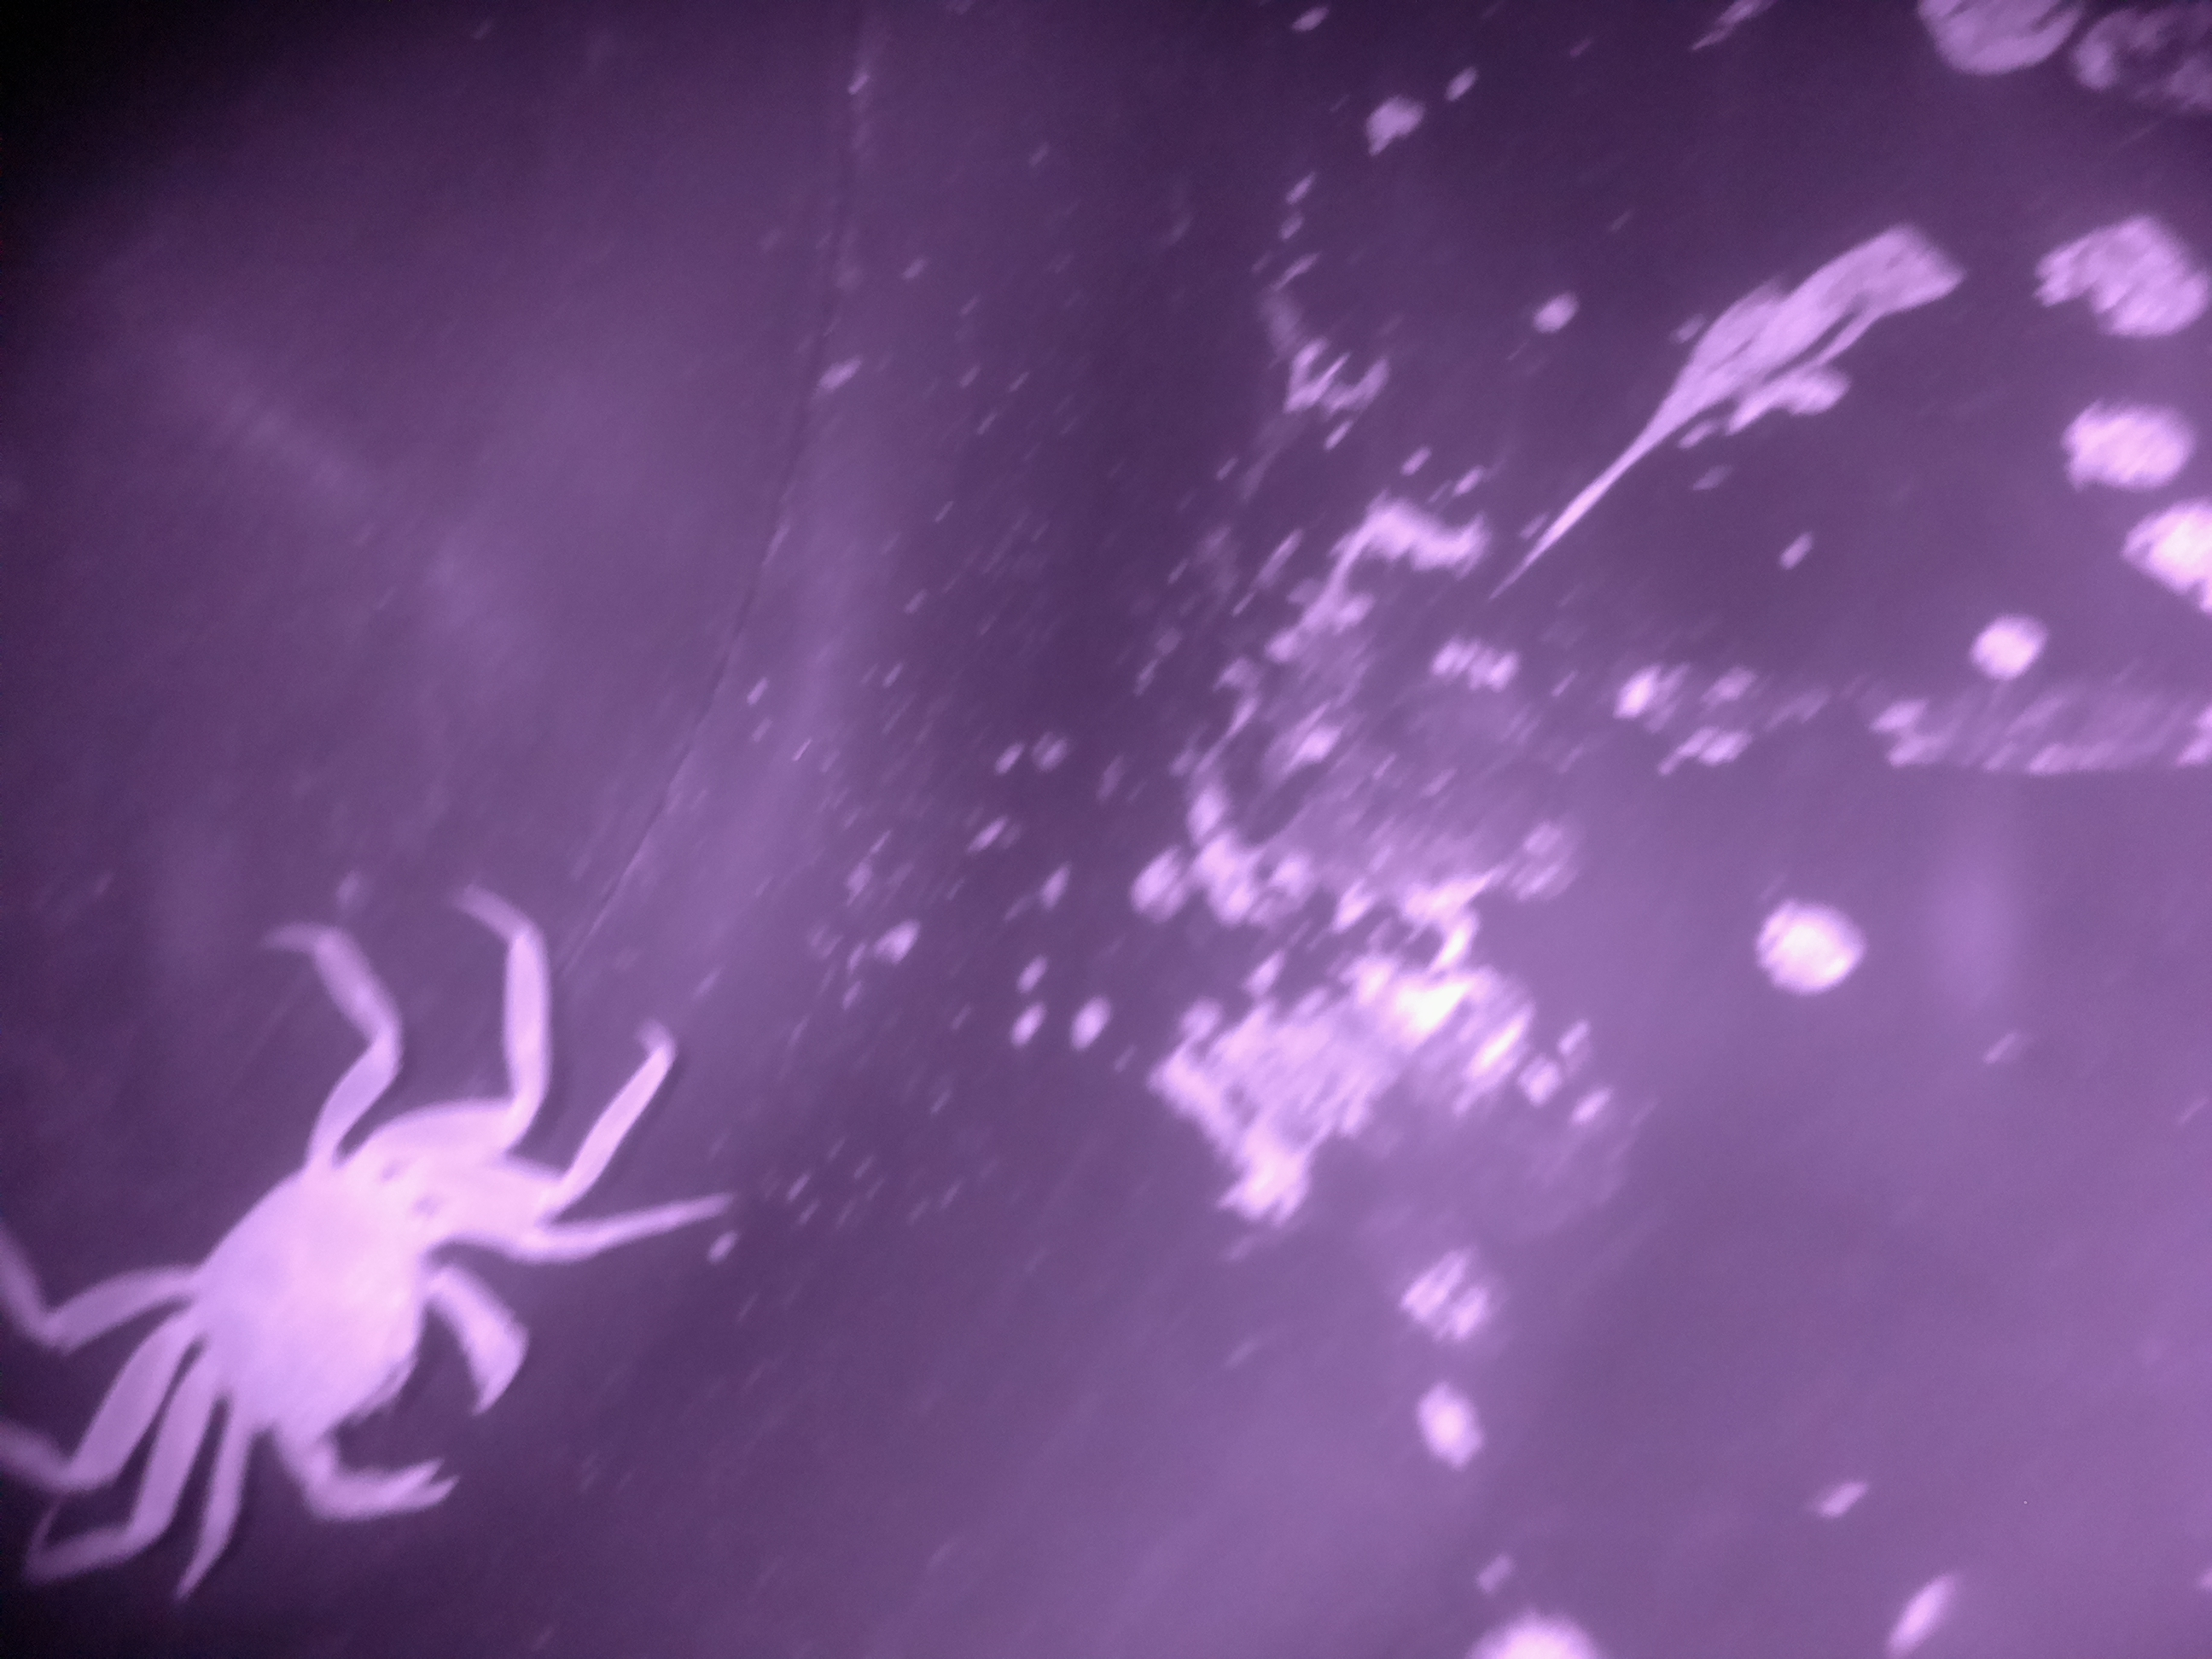Crab: (63, 1047, 636, 1595)
